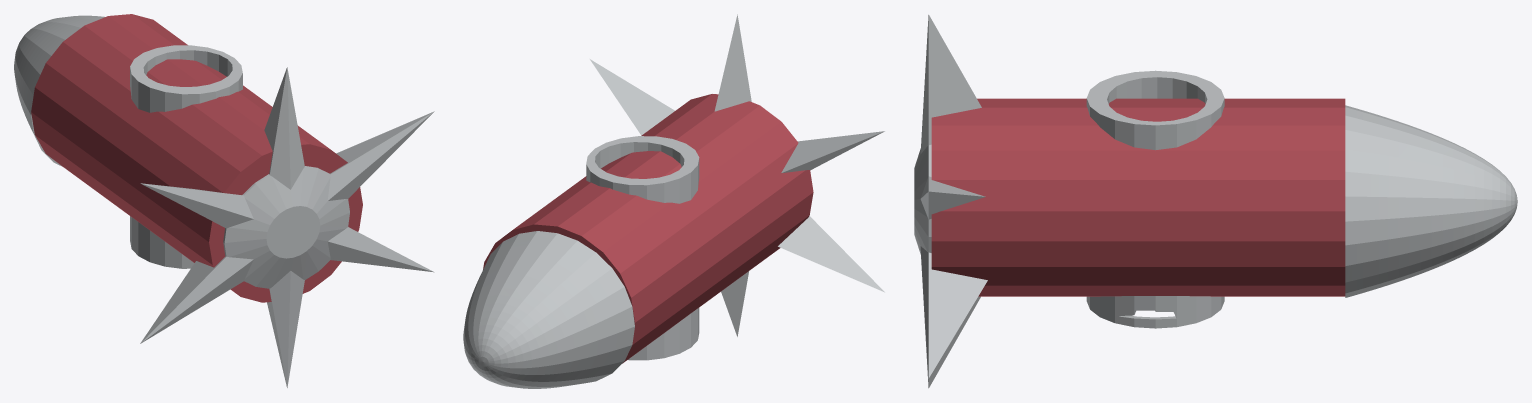
Rendered from Magnificent Kup (2).glb.
3 views of the same model, side by side, from view 1: azimuth 30°, elevation 25°; view 2: azimuth 150°, elevation 25°; view 3: azimuth 270°, elevation 25° (orthographic). The views are drawn at different scales.
Parts seen in each view (by area): view 1: Mesh_Mesh_head_geo.001_lambert2SG.001; view 2: Mesh_Mesh_head_geo.001_lambert2SG.001; view 3: Mesh_Mesh_head_geo.001_lambert2SG.001.
Part boxes in pixels (bbox=[...]): Mesh_Mesh_head_geo.001_lambert2SG.001: bbox=[14, 14, 434, 387]; Mesh_Mesh_head_geo.001_lambert2SG.001: bbox=[463, 14, 884, 388]; Mesh_Mesh_head_geo.001_lambert2SG.001: bbox=[914, 14, 1517, 388].
Bounding box in the file's own units: 46 × 48 × 70.
